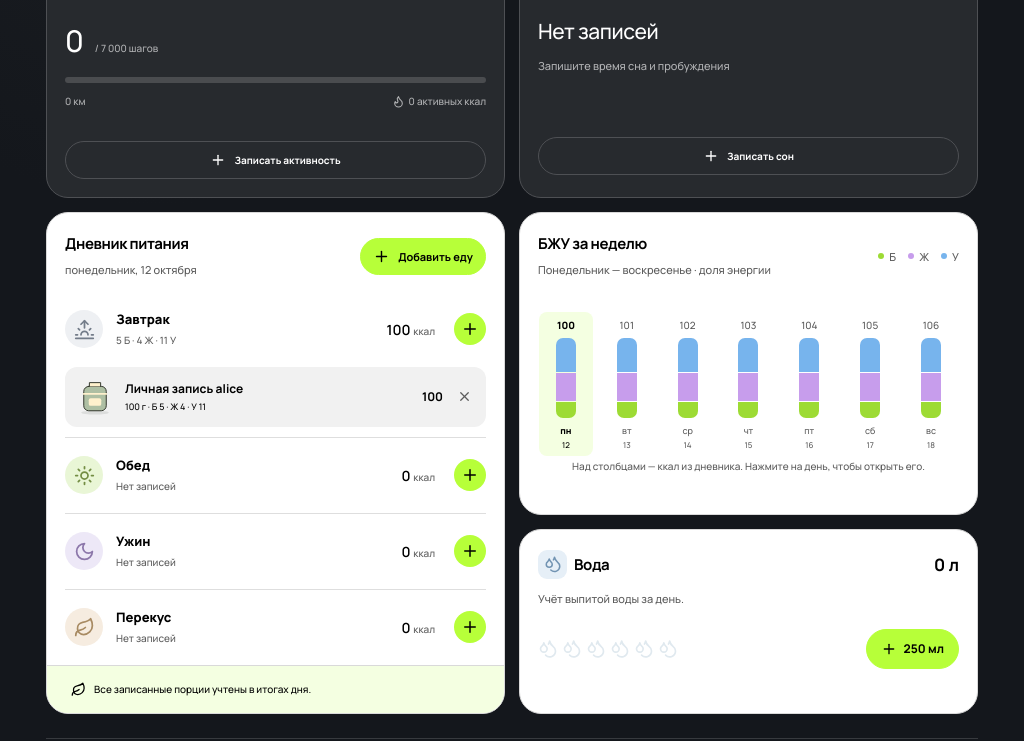
Scenario: Dashboard week and water controls › shows Monday through Sunday and keeps the same week when another bar is selected
This screenshot has width=1024, height=741.
(page scrolled)
Click the button with class "chart-day" showing "106 вс 18": (931, 384) [904, 312, 958, 456]
(page scrolled)
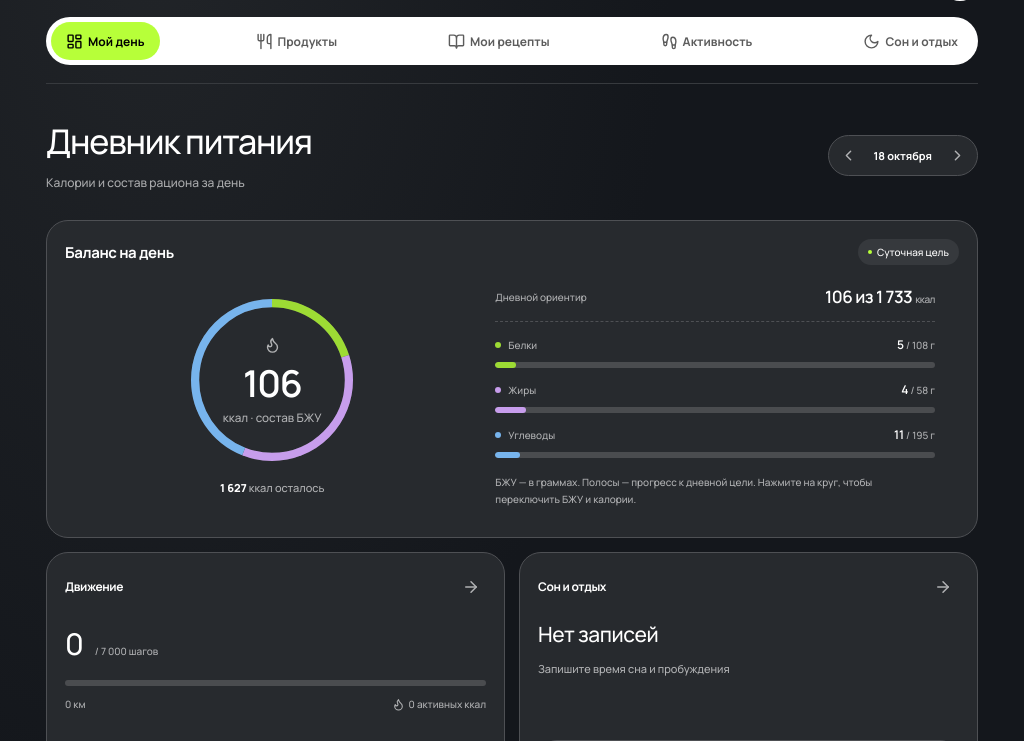
Now the text "106" is shown, box [243, 359, 302, 407]
